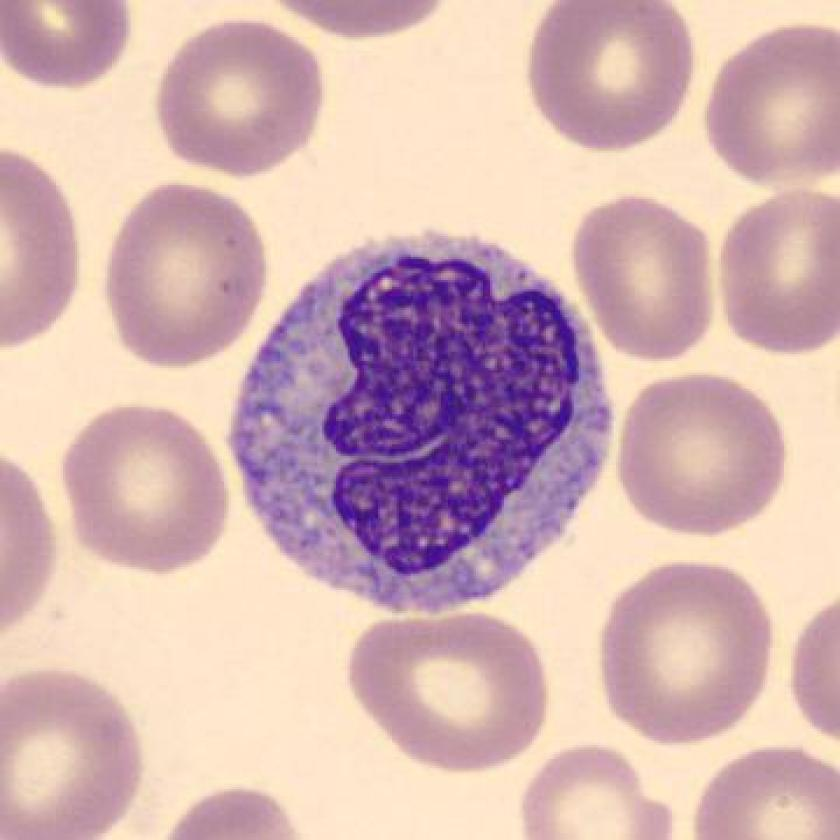monocyte: (213, 214, 636, 635)
